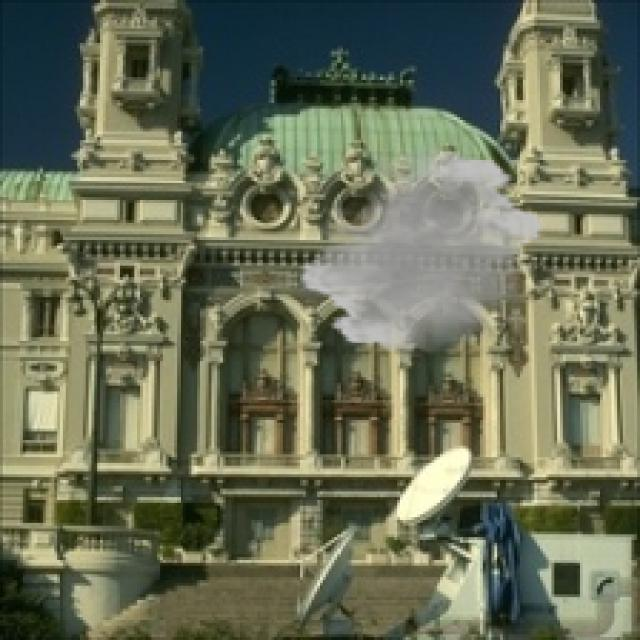smoke: (297, 146, 546, 357)
